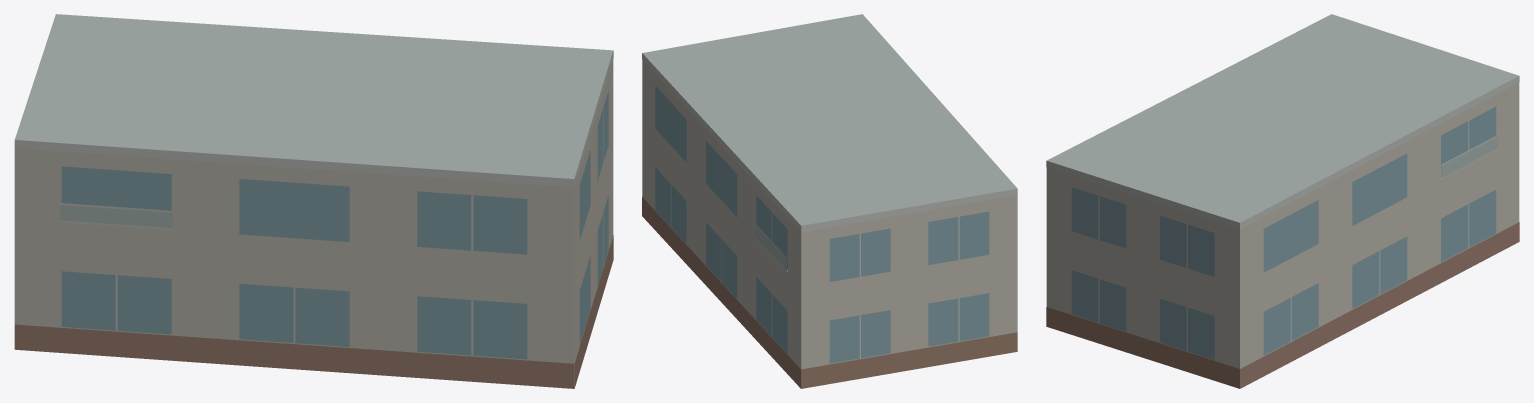
File: survey-upis-32890915.glb
The picture shows the model from 3 angles, left to right: view 1: azimuth 30°, elevation 25°; view 2: azimuth 150°, elevation 25°; view 3: azimuth 270°, elevation 25°; orthographic projection. The views are drawn at different scales.
Parts seen in each view (by area): view 1: survey-upis-32890915.tmp; view 2: survey-upis-32890915.tmp; view 3: survey-upis-32890915.tmp.
Boxes of the visible parts, x1,y1,x2,y2 form: survey-upis-32890915.tmp: (14, 14, 613, 388); survey-upis-32890915.tmp: (642, 14, 1017, 388); survey-upis-32890915.tmp: (1046, 14, 1519, 388).
Bounding box in the file's own units: 16.46 × 6.1 × 15.76.
